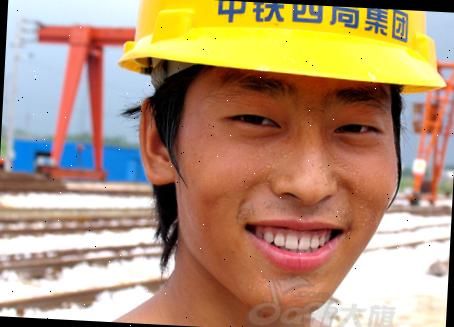helmet: (113, 0, 454, 93)
